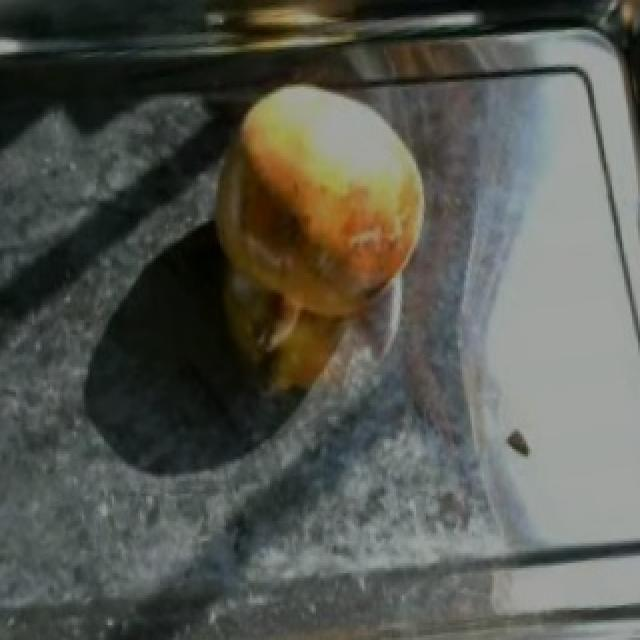fruit: (194, 64, 448, 340)
